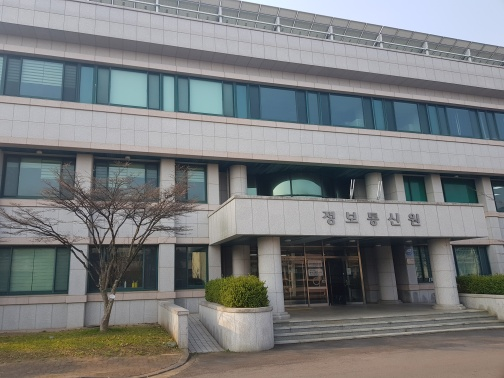Information Telecommunication Center: (3, 4, 503, 319), (252, 242, 460, 317), (311, 195, 432, 235)
